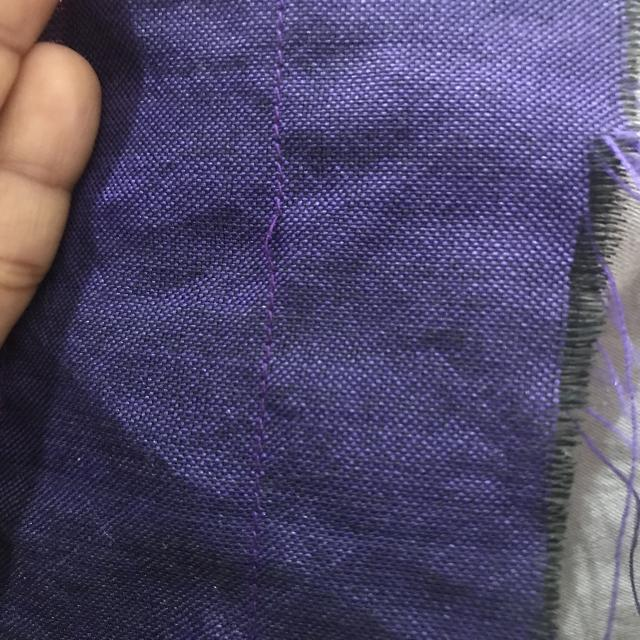good: (260, 49, 291, 151)
skip: (244, 201, 302, 294)
